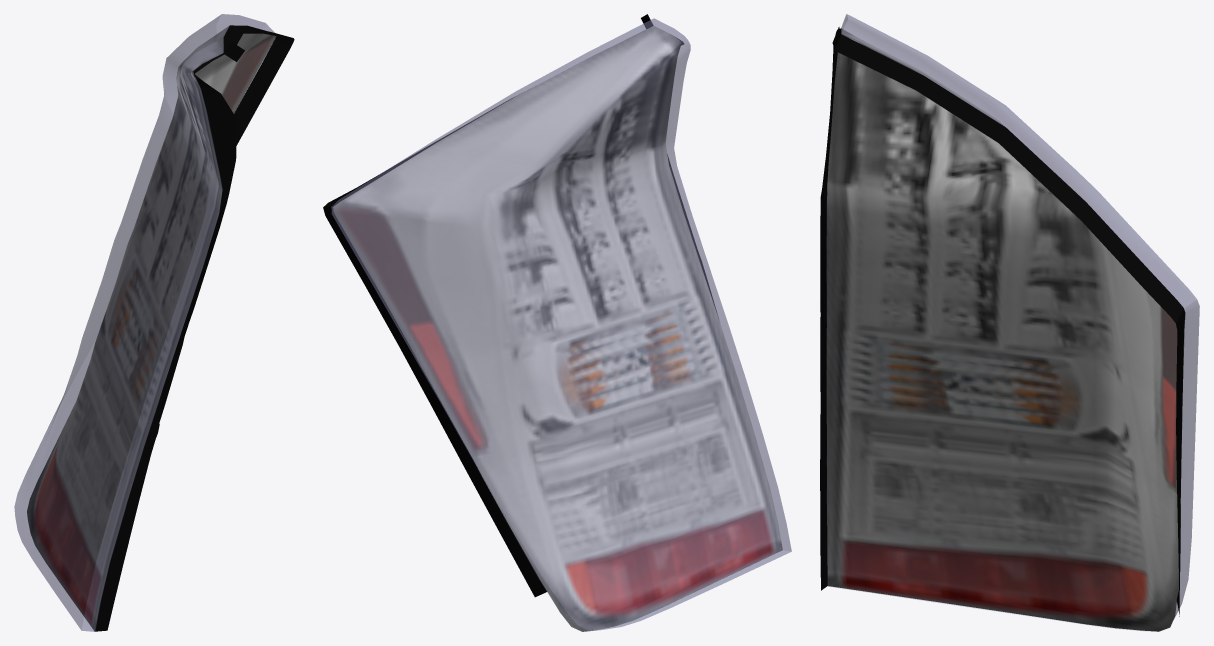
3 renders of one model, left to right at view 1: azimuth 30°, elevation 25°; view 2: azimuth 150°, elevation 25°; view 3: azimuth 270°, elevation 25°, orthographic. The views are drawn at different scales.
Visible parts, largest first — view 1: Y192_541C_L_Y192_541C_L_1_DTaSI, Y192_541C_L_2_N_Y192_541C_L, Y192_541C_L_Y192_541C_L_3_D; view 2: Y192_541C_L_Y192_541C_L_1_DTaSI, Y192_541C_L_2_N_Y192_541C_L, Y192_541C_L_Y192_541C_L_3_D; view 3: Y192_541C_L_2_N_Y192_541C_L, Y192_541C_L_Y192_541C_L_3_D, Y192_541C_L_Y192_541C_L_1_DTaSI.
Boxes of the visible parts, x1,y1,x2,y2 form: Y192_541C_L_Y192_541C_L_1_DTaSI: (14, 14, 276, 631); Y192_541C_L_2_N_Y192_541C_L: (27, 26, 275, 631); Y192_541C_L_Y192_541C_L_3_D: (95, 25, 294, 631); Y192_541C_L_Y192_541C_L_1_DTaSI: (331, 18, 791, 631); Y192_541C_L_2_N_Y192_541C_L: (333, 26, 782, 631); Y192_541C_L_Y192_541C_L_3_D: (323, 14, 717, 597); Y192_541C_L_2_N_Y192_541C_L: (826, 28, 1185, 631); Y192_541C_L_Y192_541C_L_3_D: (820, 27, 1185, 616); Y192_541C_L_Y192_541C_L_1_DTaSI: (827, 14, 1199, 631).
Bounding box in the file's own units: 36.76 × 54.51 × 28.83.
